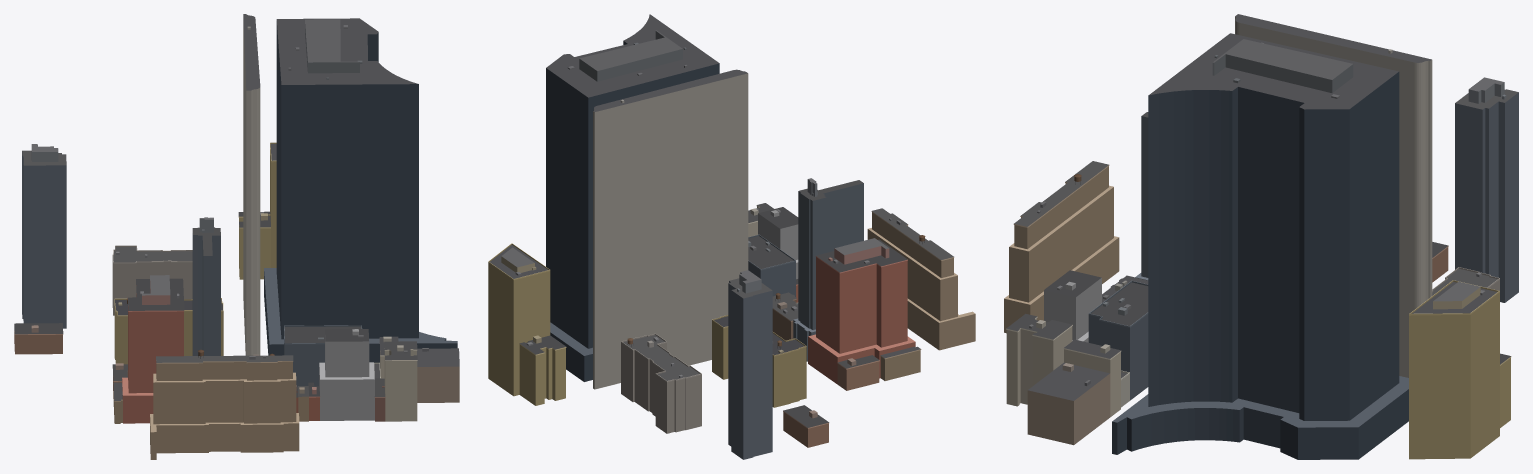
The model's file is 0_4.bld.glb.
3 renders of one model, left to right at view 1: azimuth 30°, elevation 25°; view 2: azimuth 150°, elevation 25°; view 3: azimuth 270°, elevation 25°, orthographic. The views are drawn at different scales.
Visible parts, largest first — view 1: 0_4; view 2: 0_4; view 3: 0_4.
Boxes of the visible parts, <box> form: 0_4: <box>14,14,459,459</box>; 0_4: <box>488,14,975,459</box>; 0_4: <box>1004,14,1518,459</box>.
Size of the model in its own units: 271 by 226 by 296.
